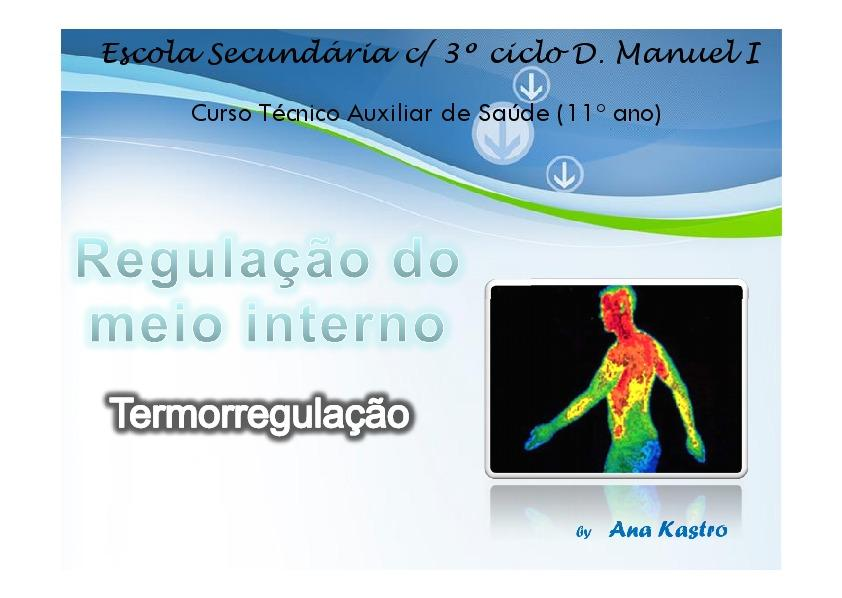subtitle: (71, 222, 472, 470)
title: (81, 36, 788, 146)
